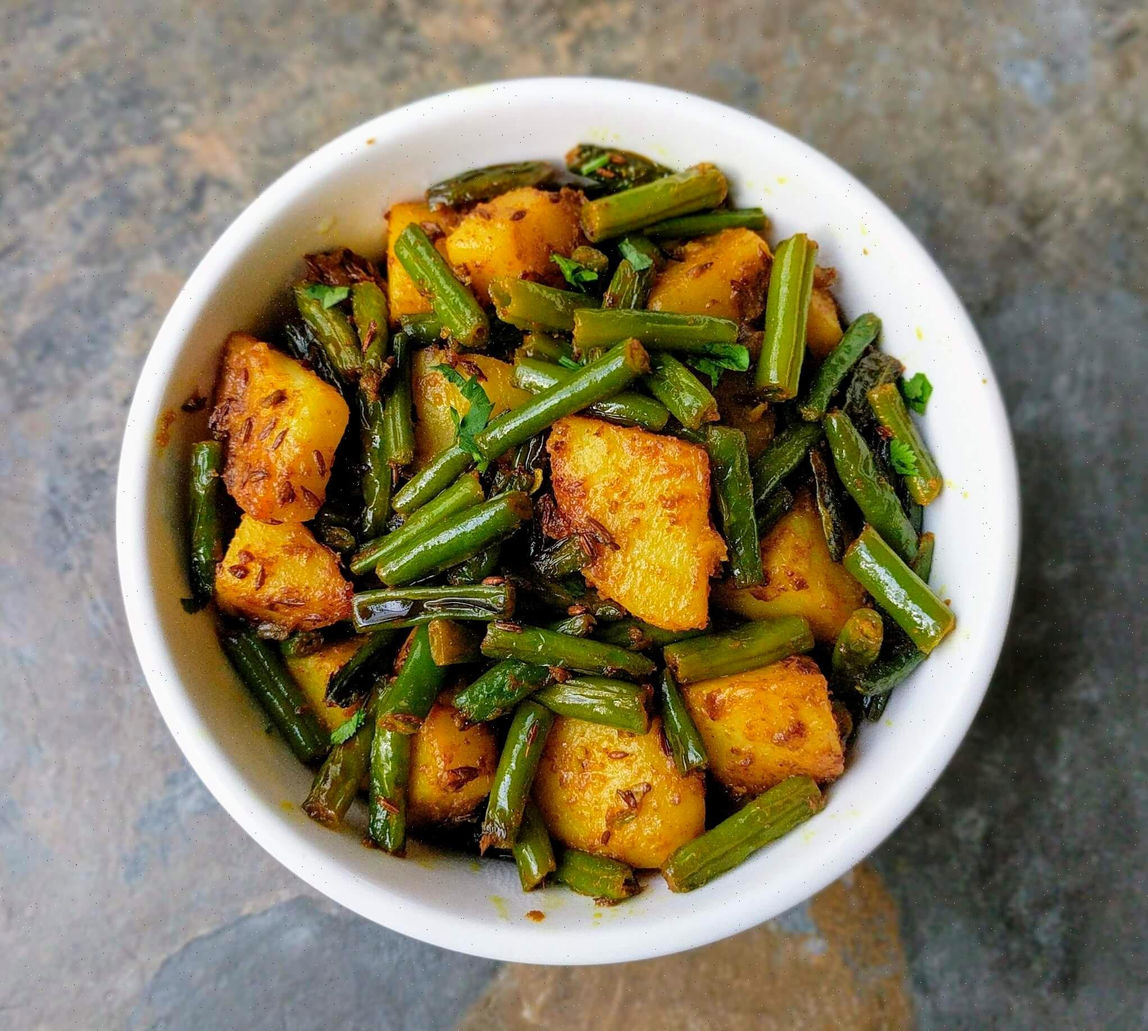aloo sabji: (155, 186, 952, 887)
